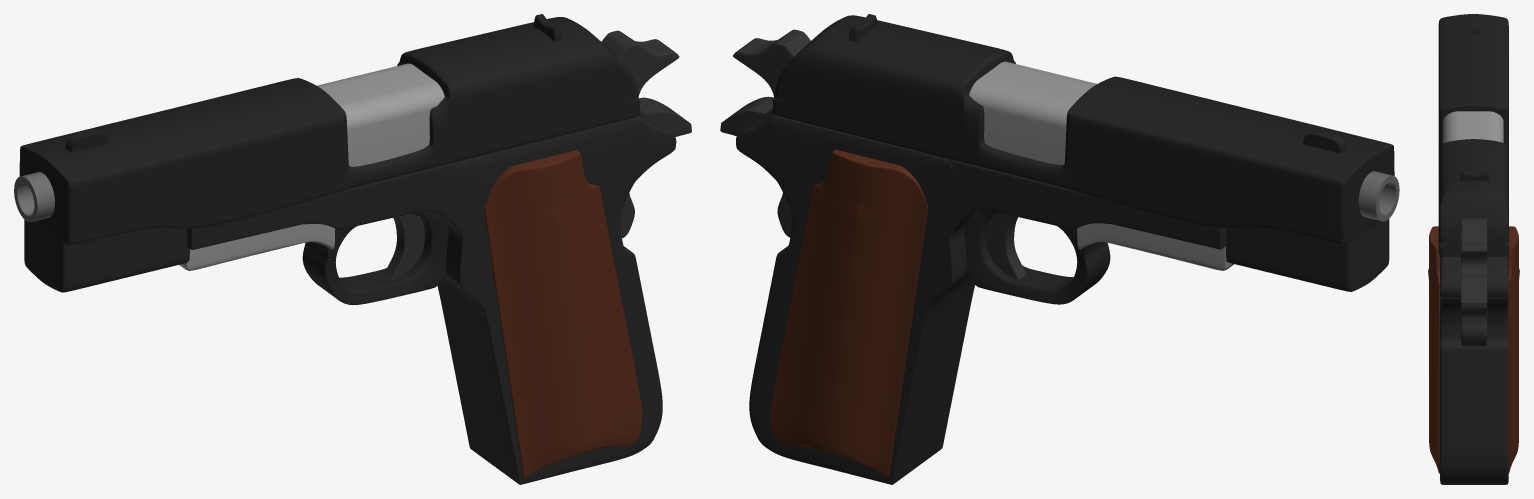
The model's file is pistolaUnityFULL_JOIN.fbx.
3 views of the same model, side by side, from view 1: azimuth 30°, elevation 25°; view 2: azimuth 150°, elevation 25°; view 3: azimuth 270°, elevation 25° (orthographic). The views are drawn at different scales.
Visible parts, largest first — view 1: Superior.001; view 2: Superior.001; view 3: Superior.001.
Part boxes in pixels (bbox=[...]): Superior.001: bbox=[14, 14, 691, 484]; Superior.001: bbox=[720, 14, 1399, 484]; Superior.001: bbox=[1428, 14, 1519, 484].
Bounding box in the file's own units: 244 × 153 × 43.59.
